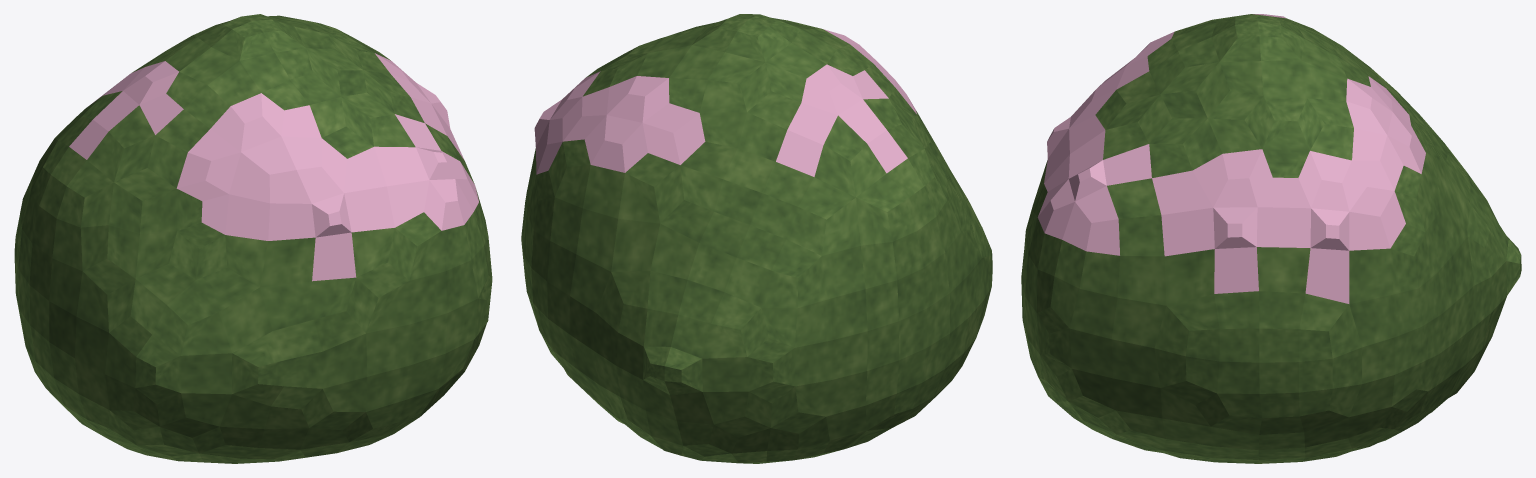
File: shrub_flowering.glb
The picture shows the model from 3 angles, left to right: view 1: azimuth 30°, elevation 25°; view 2: azimuth 150°, elevation 25°; view 3: azimuth 270°, elevation 25°; orthographic projection. The views are drawn at different scales.
Visible parts, largest first — view 1: wilds_shrub_flowering; view 2: wilds_shrub_flowering; view 3: wilds_shrub_flowering.
Part boxes in pixels (x1,y1,x2,y2): wilds_shrub_flowering: [14, 14, 492, 463]; wilds_shrub_flowering: [521, 14, 992, 463]; wilds_shrub_flowering: [1021, 14, 1521, 463].
Size of the model in its own units: 0.5859 by 0.557 by 0.6115.
Materials: 2 (1 with a texture image).
